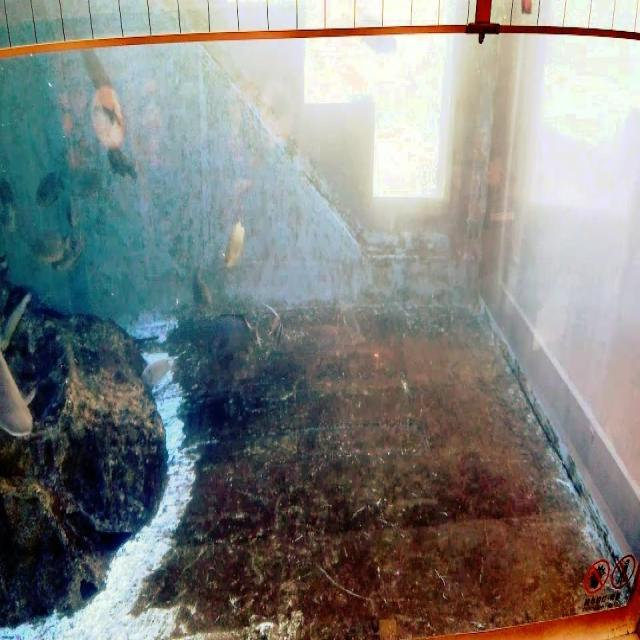angelfish: (254, 298, 295, 356)
gold snapper: (218, 206, 249, 280)
other black fish: (197, 300, 265, 378)
shark: (0, 313, 43, 449)
